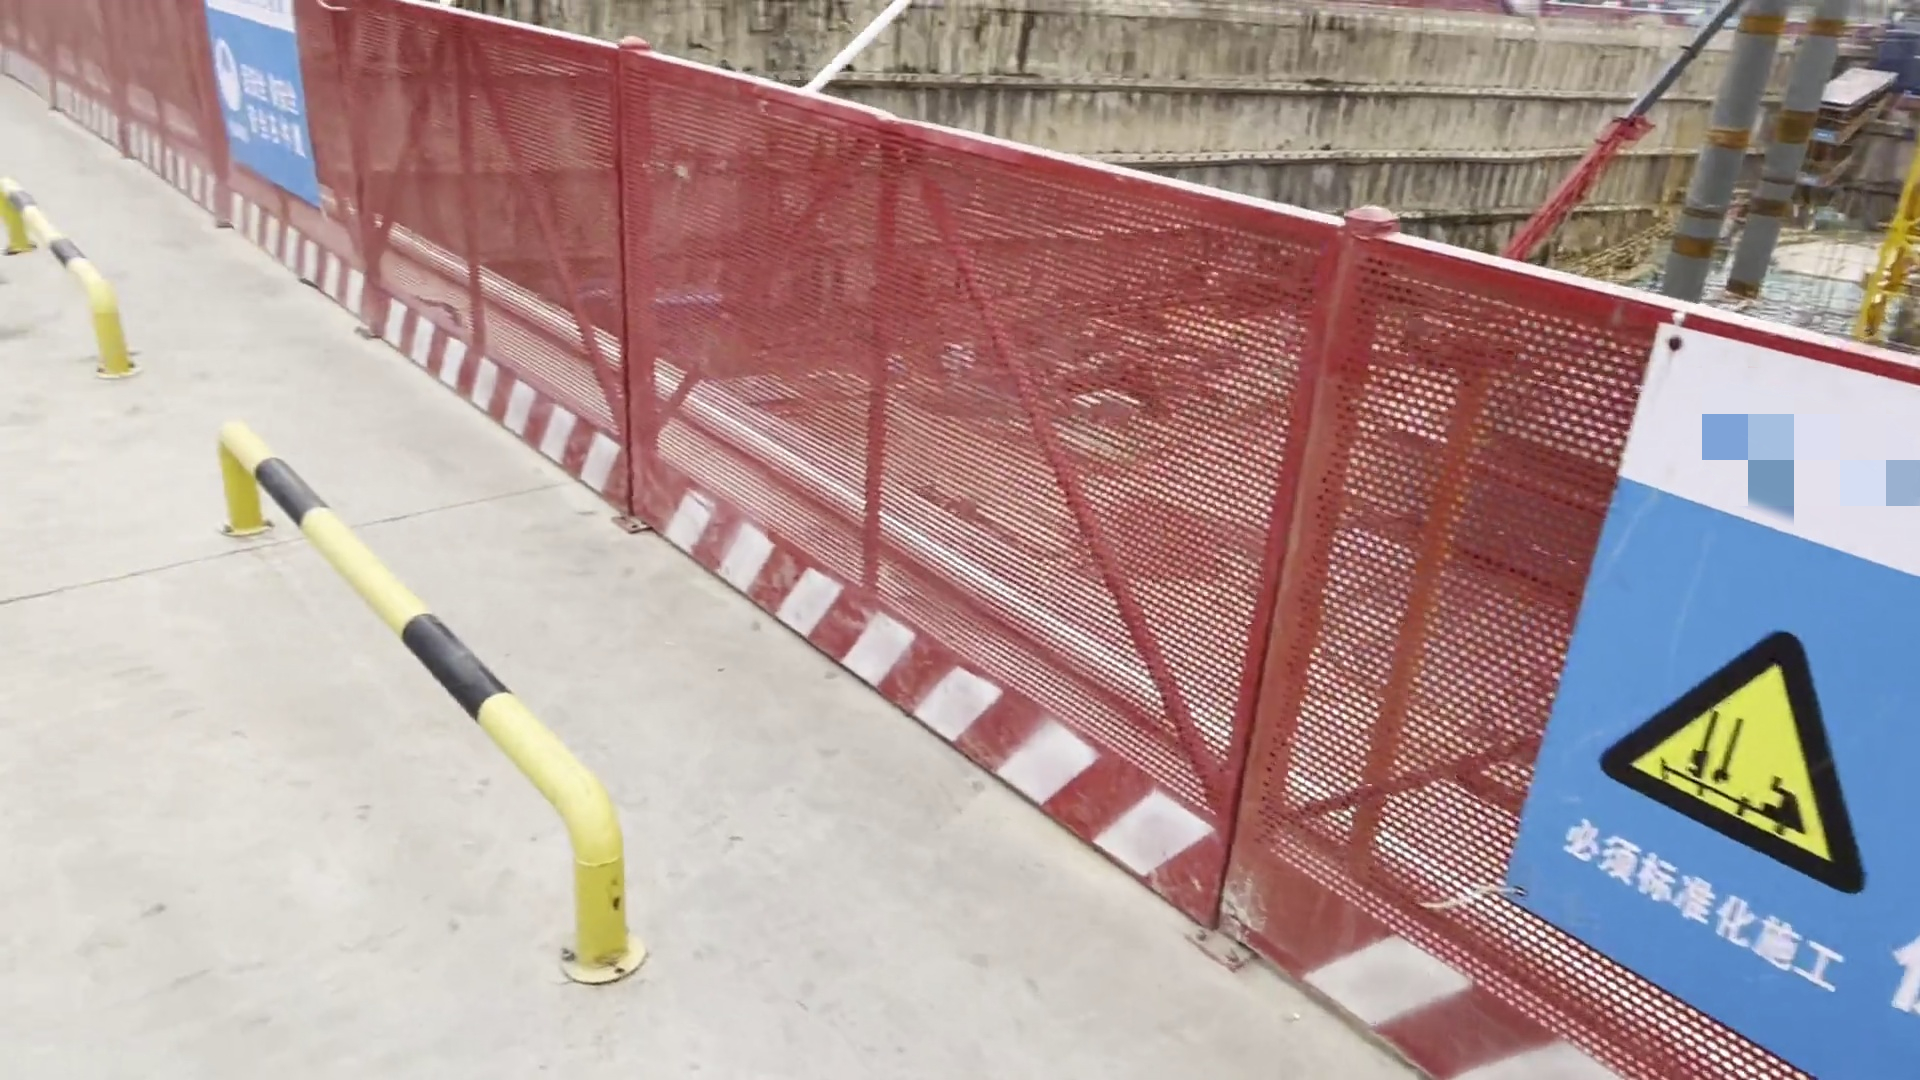fence: (622, 36, 1509, 1029), (295, 7, 641, 547), (1, 3, 229, 210)
slogan: (1498, 320, 1920, 1077), (204, 4, 320, 215)
